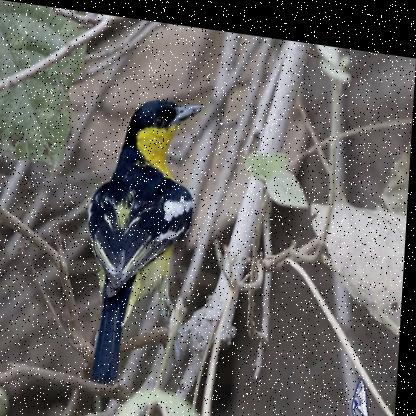Burung: (82, 86, 206, 388)
